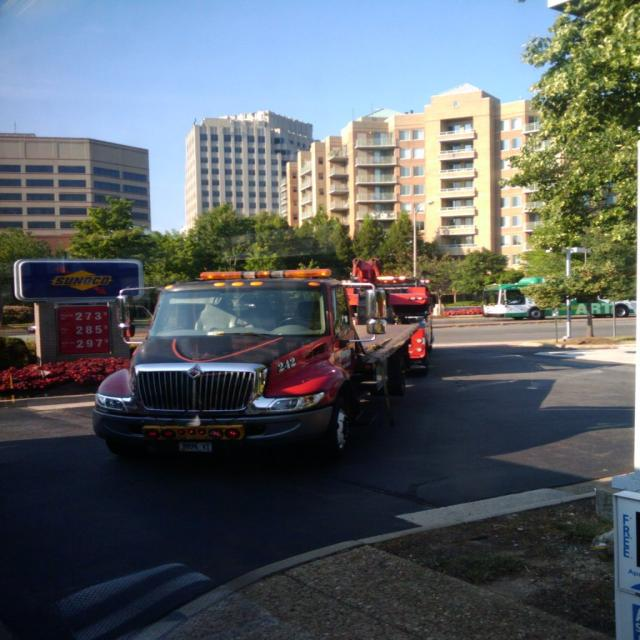Buses: (483, 276, 638, 326)
Heavy Duty Truck: (89, 255, 438, 470)
